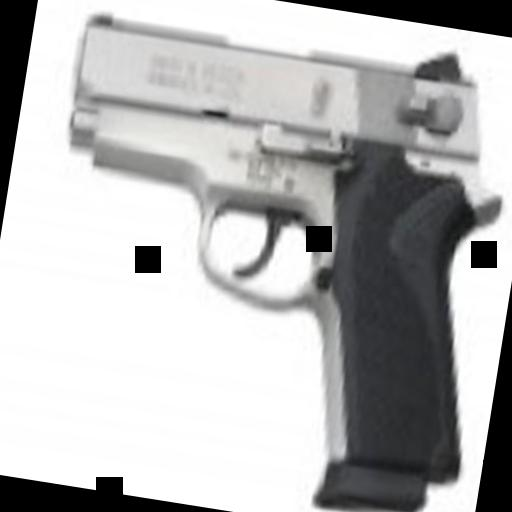Handgun: (15, 0, 512, 512)
